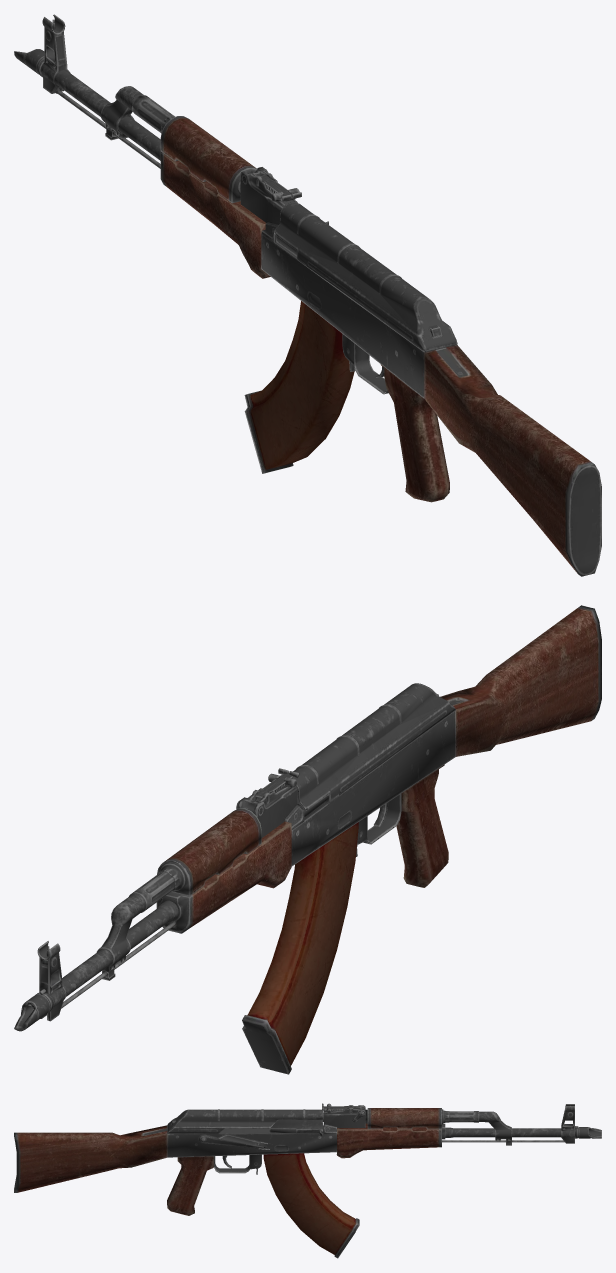
The model's file is rifle.glb.
3 views of the same model, one above another, from view 1: azimuth 30°, elevation 25°; view 2: azimuth 150°, elevation 25°; view 3: azimuth 270°, elevation 25° (orthographic). The views are drawn at different scales.
Parts seen in each view (by area): view 1: weapon; view 2: weapon; view 3: weapon.
Boxes of the visible parts, <box> form: weapon: <box>14,14,601,576</box>; weapon: <box>14,605,601,1074</box>; weapon: <box>14,1103,601,1258</box>.
Size of the model in its own units: 0.0489 by 0.2479 by 0.88.
1 material, 1 textured.
